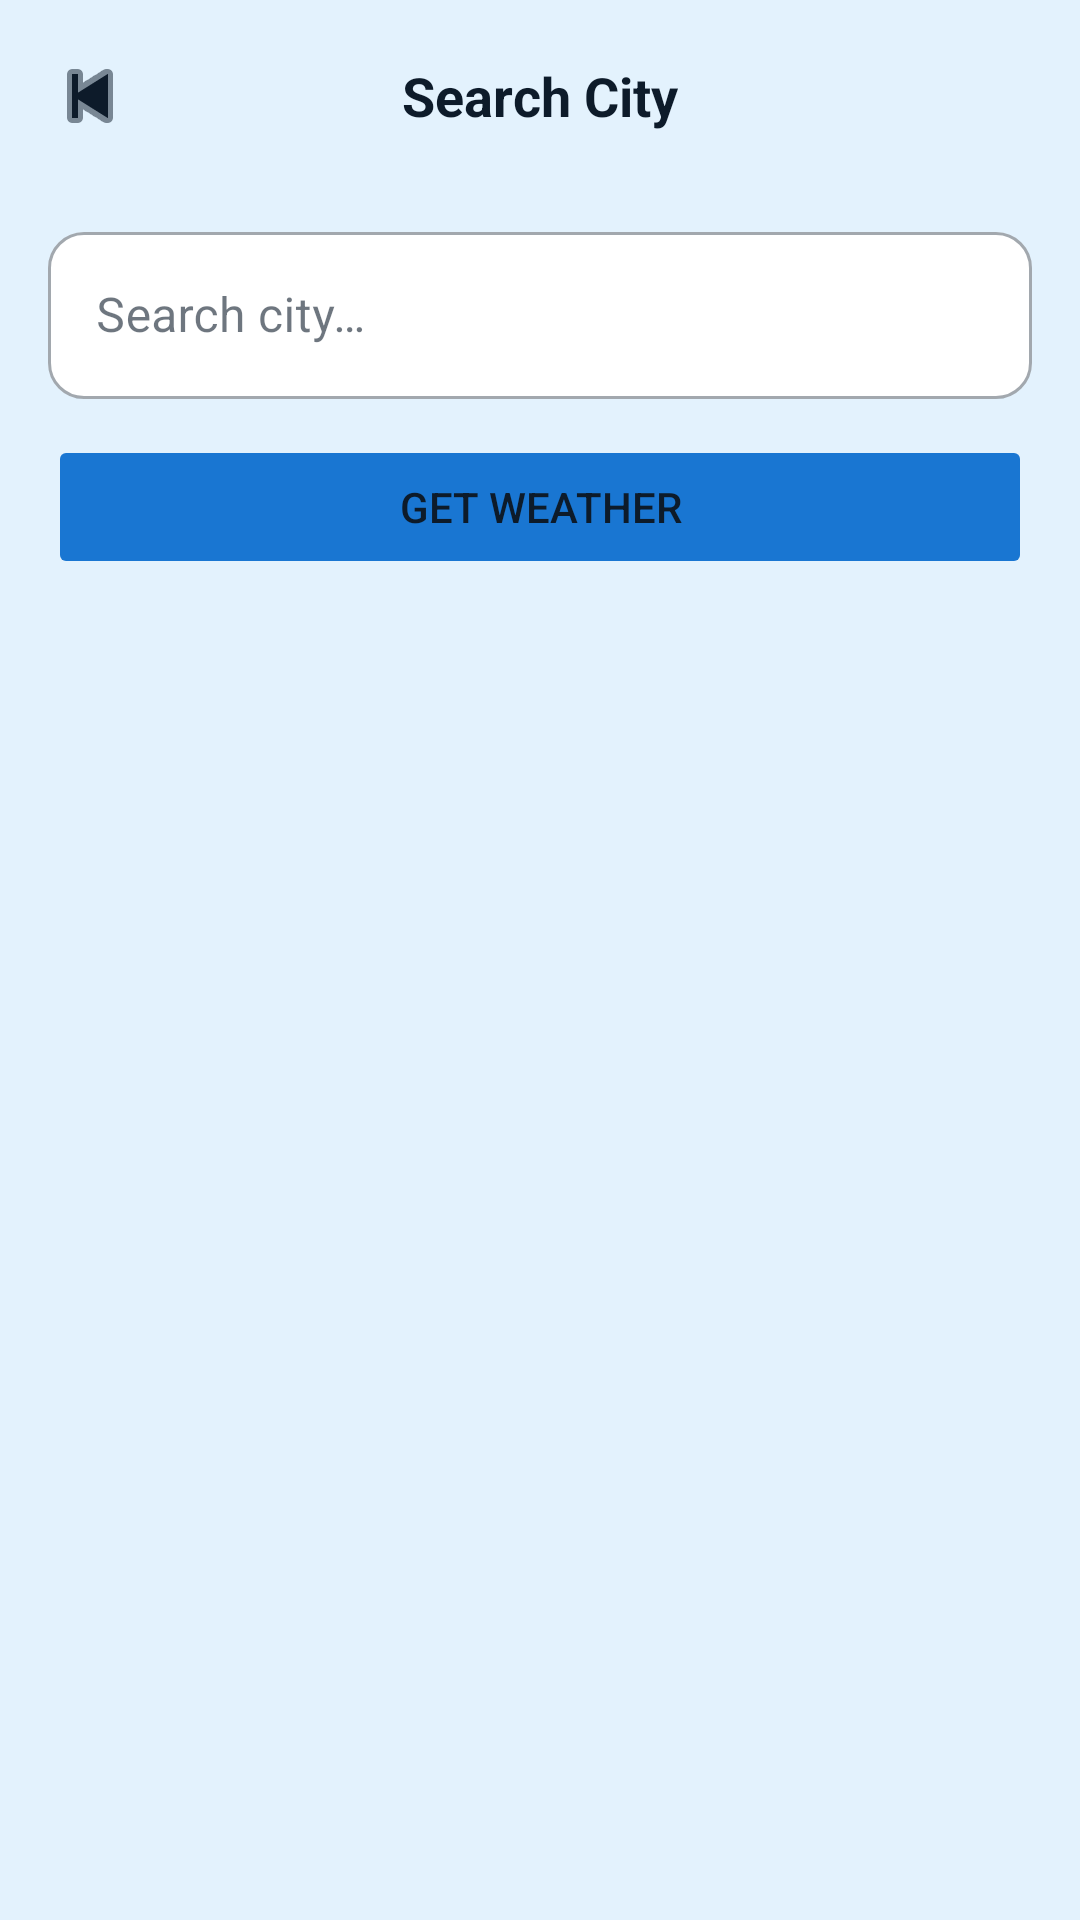

Named icons in this screenshot (1080×1920) and their centers, point (x, y):
Back: point (90, 96)
